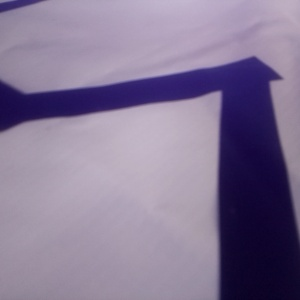bottom_right: (146, 23, 226, 53)
